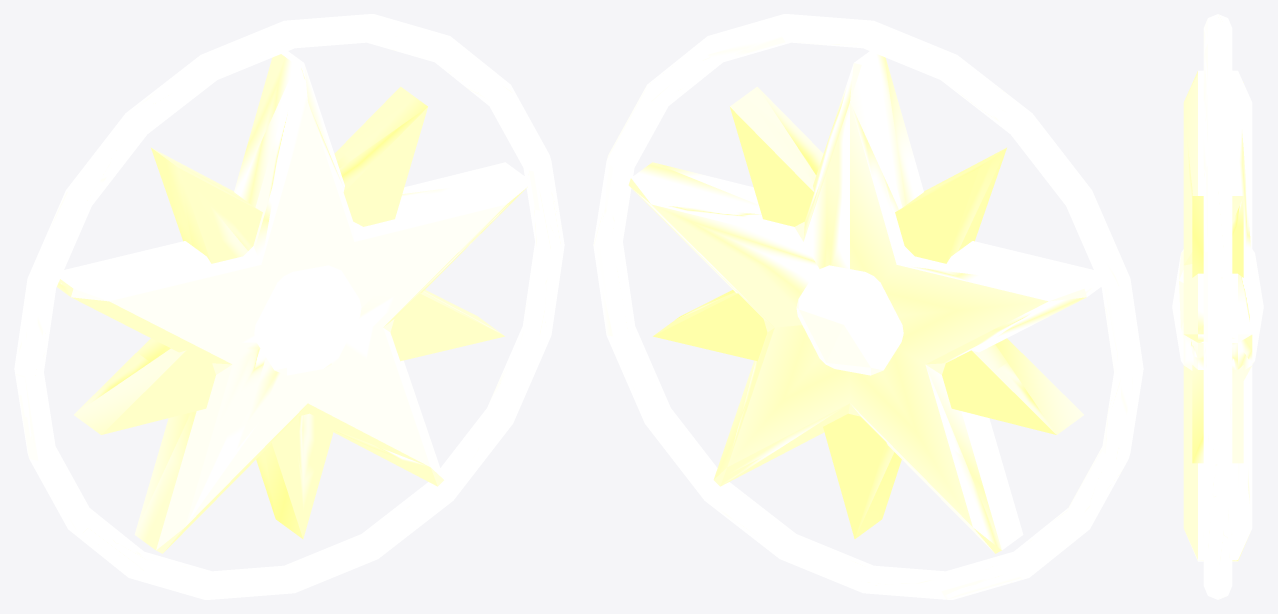
File: xmas_star.glb
The picture shows the model from 3 angles, left to right: view 1: azimuth 30°, elevation 25°; view 2: azimuth 150°, elevation 25°; view 3: azimuth 270°, elevation 25°; orthographic projection. The views are drawn at different scales.
Parts seen in each view (by area): view 1: ChristmasStar; view 2: ChristmasStar; view 3: ChristmasStar.
Part boxes in pixels (x1=…): ChristmasStar: x1=14, y1=14, x2=564, y2=599; ChristmasStar: x1=593, y1=14, x2=1143, y2=599; ChristmasStar: x1=1172, y1=14, x2=1263, y2=599.
Bounding box in the file's own units: 2.06 × 2.06 × 0.32.
